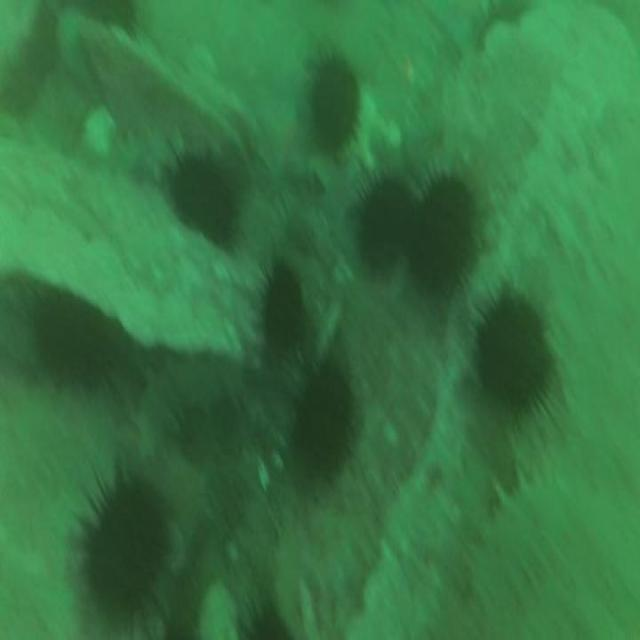echinus: (88, 479, 168, 610), (479, 289, 549, 411), (415, 175, 475, 291), (38, 297, 110, 387), (174, 158, 238, 245), (296, 366, 350, 462), (362, 176, 410, 276), (310, 54, 358, 153), (263, 267, 306, 351)
holothurian: (472, 469, 569, 608), (137, 357, 245, 452)
